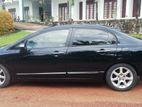car: (0, 25, 142, 90)
